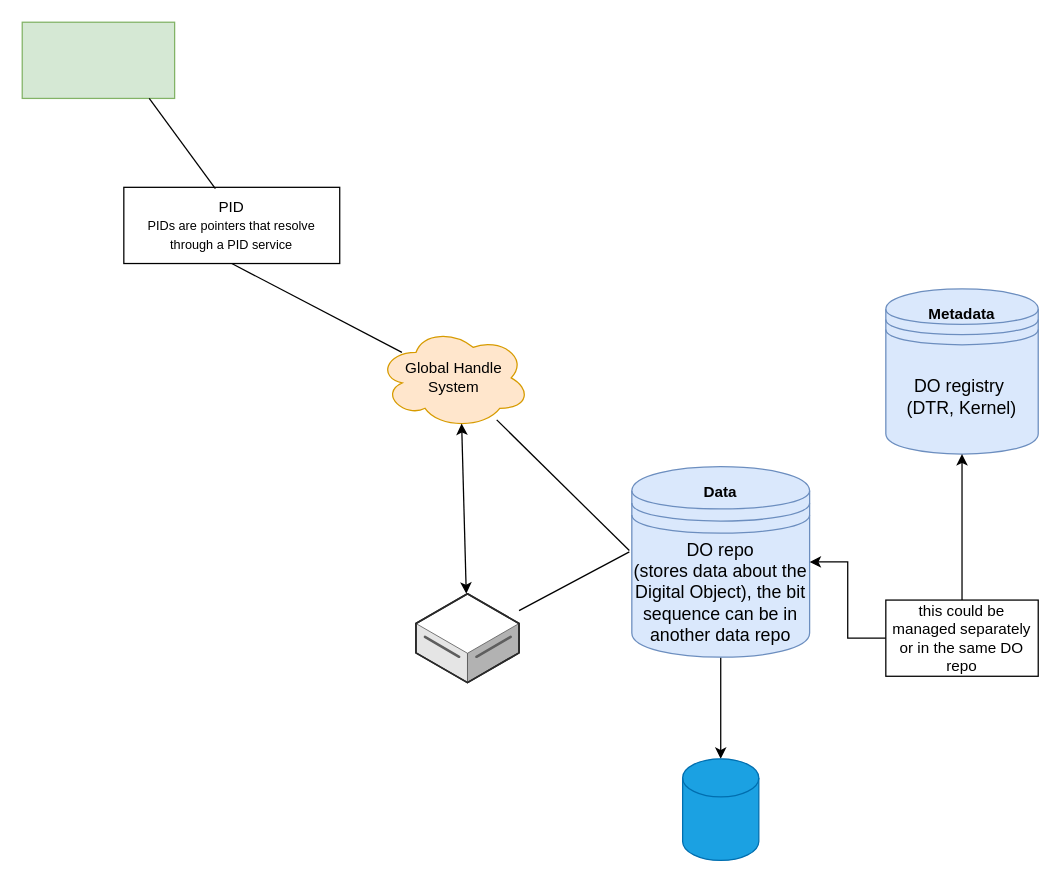
The diagram is 1060 pixels wide and 883 high, and some of its shapes have lost their labels. The shapes that lost their labels are listed below. From the top down, each one's centre as x and y in pixels, then its label:
pixel 98 59: Agent
pixel 467 637: LOCAL Handle Server
pixel 720 809: data storage
